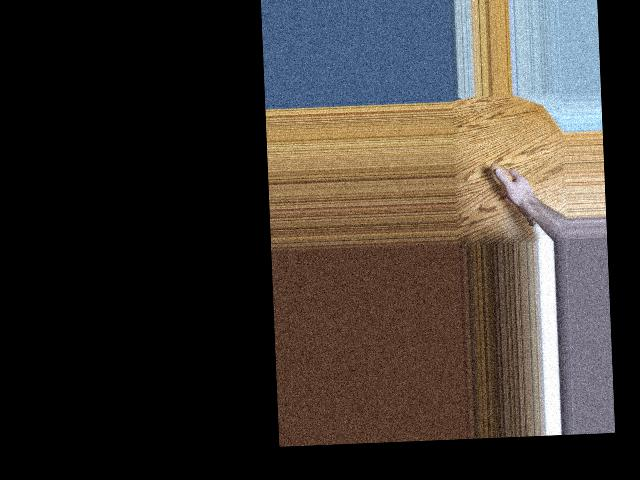sweet_potato: (490, 160, 537, 229)
